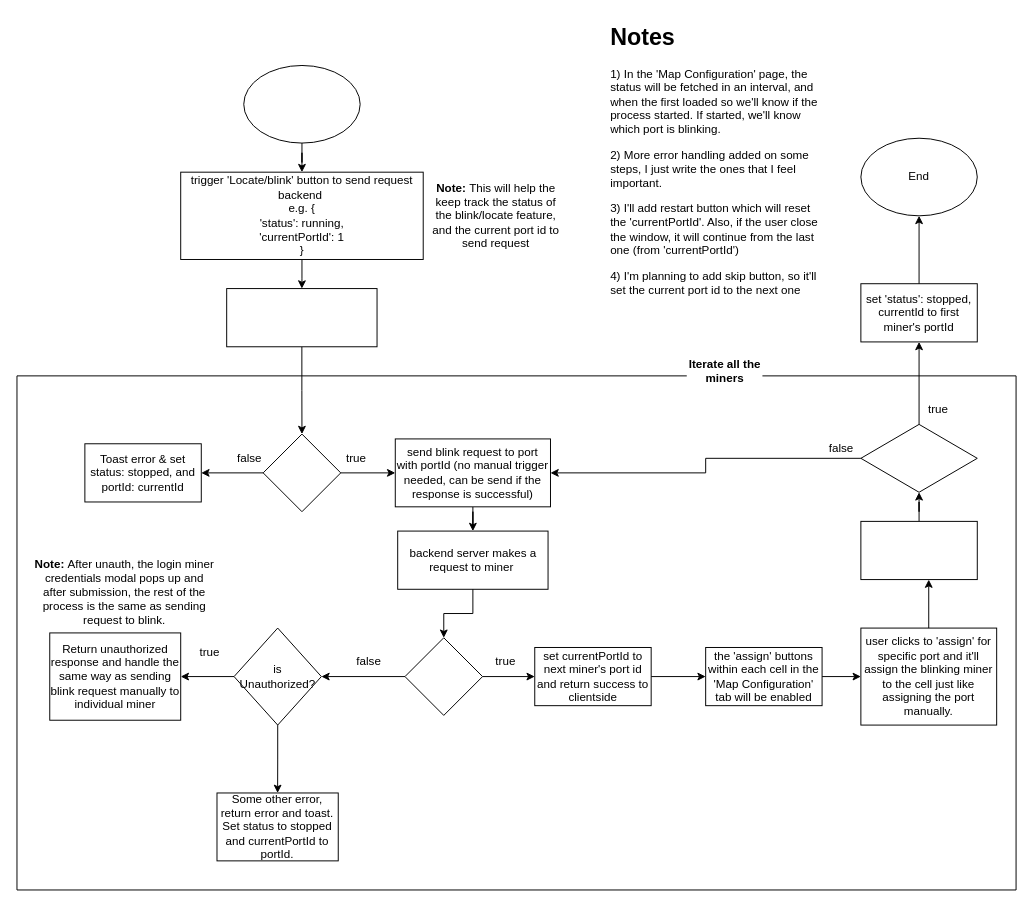
Some shapes in this 1033 by 907 pixel diagram are drawn without their labels. Here are the shapes that lost their labels. From the top down, the centre of each, then its label:
At pixel 301 104: "start".
At pixel 301 317: "return response with success and current portId".
At pixel 301 472: "is response success?".
At pixel 918 457: "Is all miners completed?".
At pixel 918 550: "Save the updated configurations".
At pixel 443 676: "is miner returns success".
